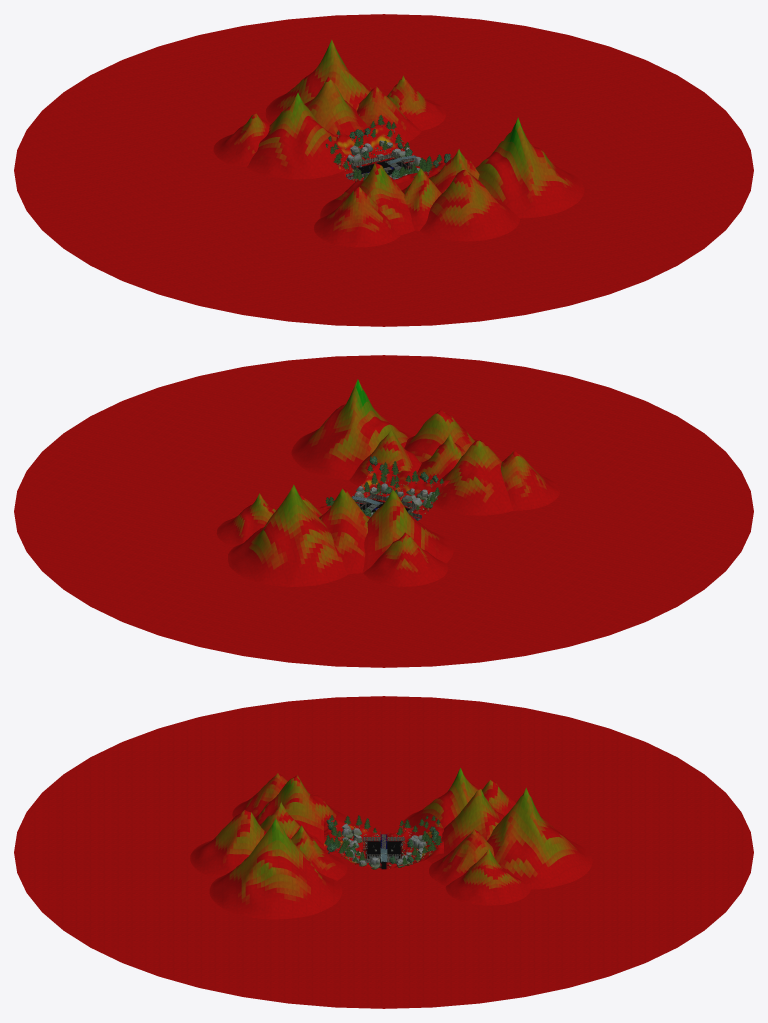
Rendered from room4.glb.
3 views of the same model, one above another, from view 1: azimuth 30°, elevation 25°; view 2: azimuth 150°, elevation 25°; view 3: azimuth 270°, elevation 25° (orthographic).
Parts seen in each view (by area): view 1: mtn_ground.003, mtn_9.003, mtn_0.003, mtn_11.003, mtn_10.003, mtn_5.003, mtn_6.003, R4_聚義廳前_terrain, mtn_1.003, mtn_4.003, mtn_3.003, mtn_2.003 (+2 smaller); view 2: mtn_ground.003, mtn_5.003, mtn_9.003, mtn_6.003, mtn_0.003, mtn_4.003, mtn_1.003, mtn_10.003, mtn_11.003, R4_聚義廳前_terrain, mtn_3.003, mtn_8.003 (+1 smaller); view 3: mtn_ground.003, mtn_9.003, mtn_5.003, mtn_11.003, mtn_3.003, mtn_6.003, R4_聚義廳前_terrain, mtn_1.003, mtn_0.003, mtn_2.003, mtn_8.003, mtn_10.003 (+2 smaller).
Part boxes in pixels (left/top/right/bottom): mtn_ground.003: left=14, top=14, right=753, bottom=326; mtn_9.003: left=475, top=117, right=584, bottom=218; mtn_0.003: left=246, top=93, right=346, bottom=179; mtn_11.003: left=420, top=170, right=519, bottom=241; mtn_10.003: left=314, top=186, right=400, bottom=247; mtn_5.003: left=265, top=39, right=371, bottom=124; mtn_6.003: left=320, top=163, right=414, bottom=234; R4_聚義廳前_terrain: left=332, top=123, right=445, bottom=183; mtn_1.003: left=304, top=76, right=367, bottom=136; mtn_4.003: left=213, top=113, right=269, bottom=167; mtn_3.003: left=387, top=75, right=446, bottom=130; mtn_2.003: left=357, top=86, right=421, bottom=143; mtn_ground.003: left=14, top=355, right=753, bottom=667; mtn_5.003: left=228, top=484, right=348, bottom=586; mtn_9.003: left=291, top=379, right=412, bottom=479; mtn_6.003: left=432, top=440, right=513, bottom=515; mtn_0.003: left=362, top=489, right=453, bottom=572; mtn_4.003: left=363, top=532, right=447, bottom=586; mtn_1.003: left=319, top=488, right=369, bottom=574; mtn_10.003: left=500, top=450, right=560, bottom=510; mtn_11.003: left=404, top=409, right=494, bottom=462; R4_聚義廳前_terrain: left=318, top=462, right=449, bottom=520; mtn_3.003: left=216, top=493, right=276, bottom=546; mtn_8.003: left=349, top=430, right=421, bottom=486; mtn_ground.003: left=14, top=696, right=753, bottom=1008; mtn_9.003: left=209, top=818, right=342, bottom=919; mtn_5.003: left=487, top=787, right=592, bottom=889; mtn_11.003: left=190, top=810, right=266, bottom=878; mtn_3.003: left=445, top=848, right=530, bottom=905; mtn_6.003: left=255, top=775, right=351, bottom=844; R4_聚義廳前_terrain: left=324, top=817, right=443, bottom=869; mtn_1.003: left=426, top=789, right=504, bottom=863; mtn_0.003: left=401, top=768, right=496, bottom=836; mtn_2.003: left=429, top=829, right=494, bottom=885; mtn_8.003: left=291, top=825, right=347, bottom=880; mtn_10.003: left=232, top=773, right=287, bottom=817.
Size of the model in its own units: 640 by 72.38 by 640.
Materials: 49 (48 with a texture image).
